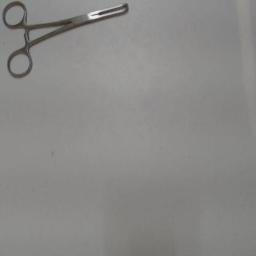Allis Tissue Forceps: (0, 0, 134, 82)
